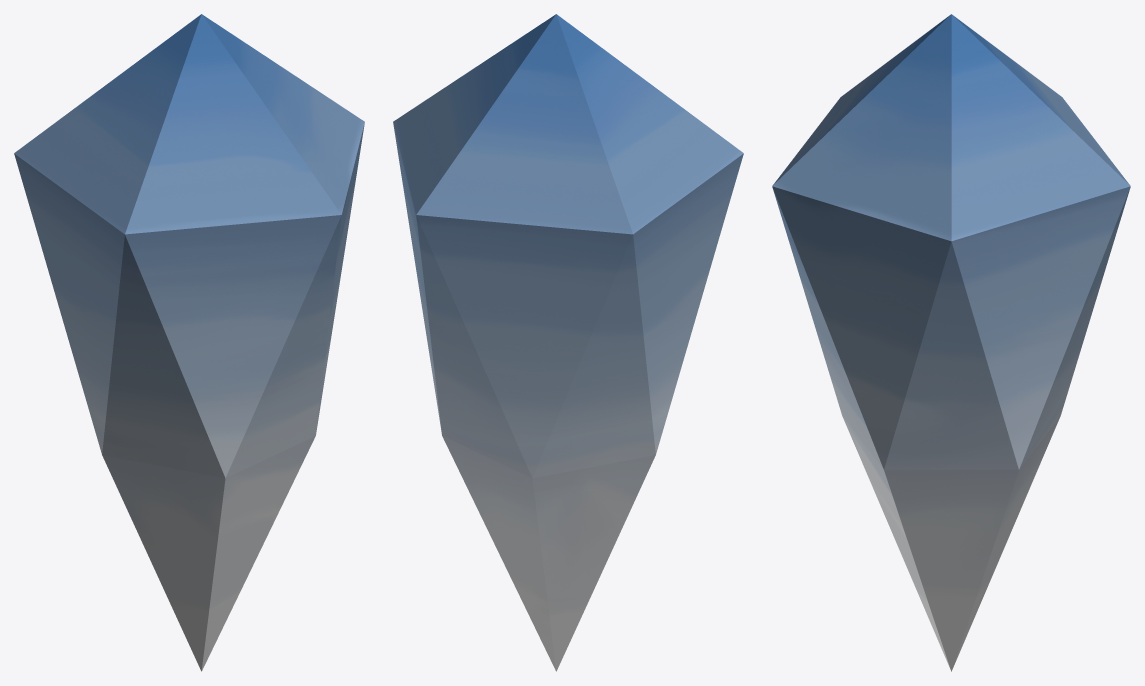
Rendered from hitice.fbx.
The picture shows the model from 3 angles, left to right: view 1: azimuth 30°, elevation 25°; view 2: azimuth 150°, elevation 25°; view 3: azimuth 270°, elevation 25°; orthographic projection.
Visible parts, largest first — view 1: Icosphere.018; view 2: Icosphere.018; view 3: Icosphere.018.
Part boxes in pixels (x1,y1,x2,y2): Icosphere.018: [14, 14, 364, 671]; Icosphere.018: [393, 14, 743, 671]; Icosphere.018: [772, 14, 1130, 671].
Size of the model in its own units: 266 by 565 by 279.
1 material, 1 textured.
